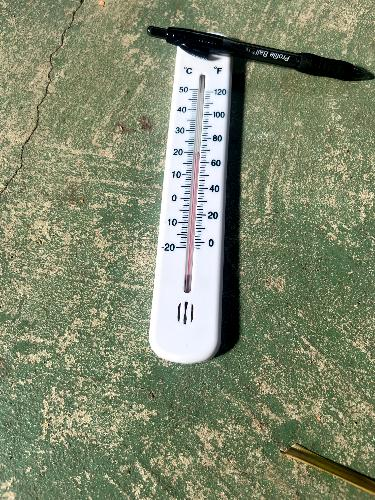thermo: (146, 30, 251, 361)
